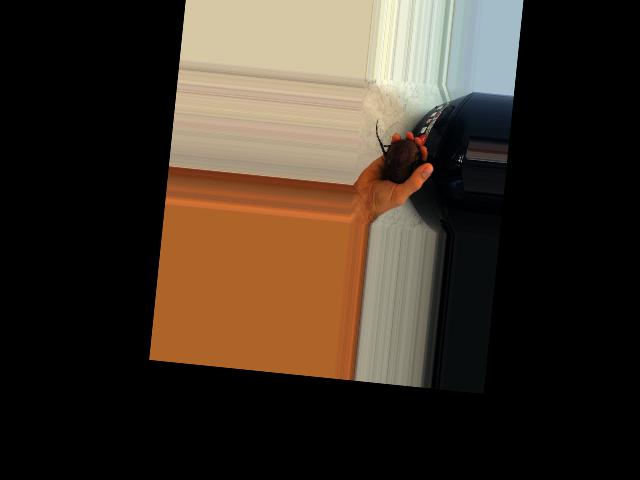beet: (370, 118, 429, 185)
